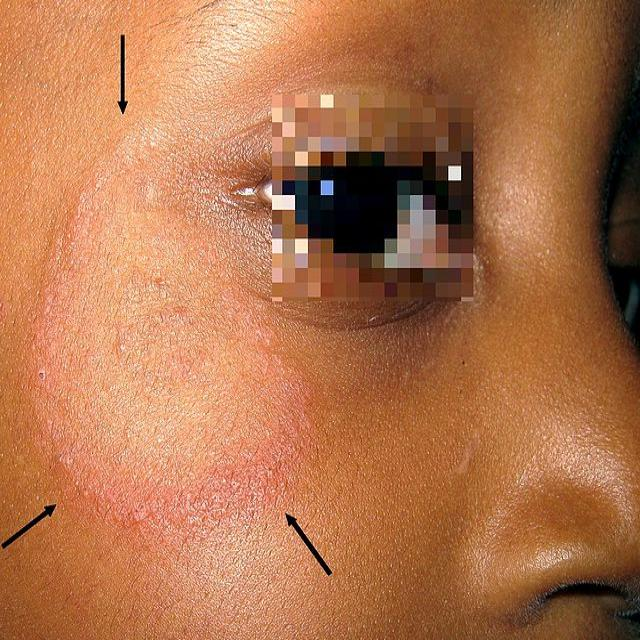eczema: (45, 303, 328, 512)
